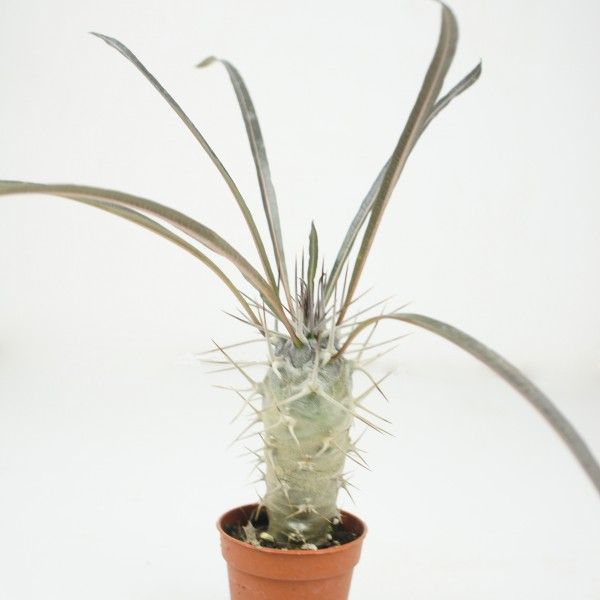Pachypodium geayi: (197, 133, 433, 536)
